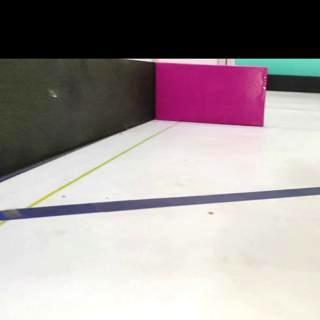xparking: (165, 66, 265, 125)
